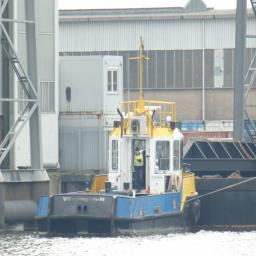tugboat: (34, 100, 203, 242)
